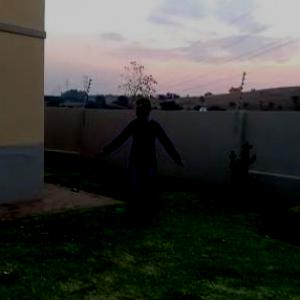land: (94, 103, 191, 234)
